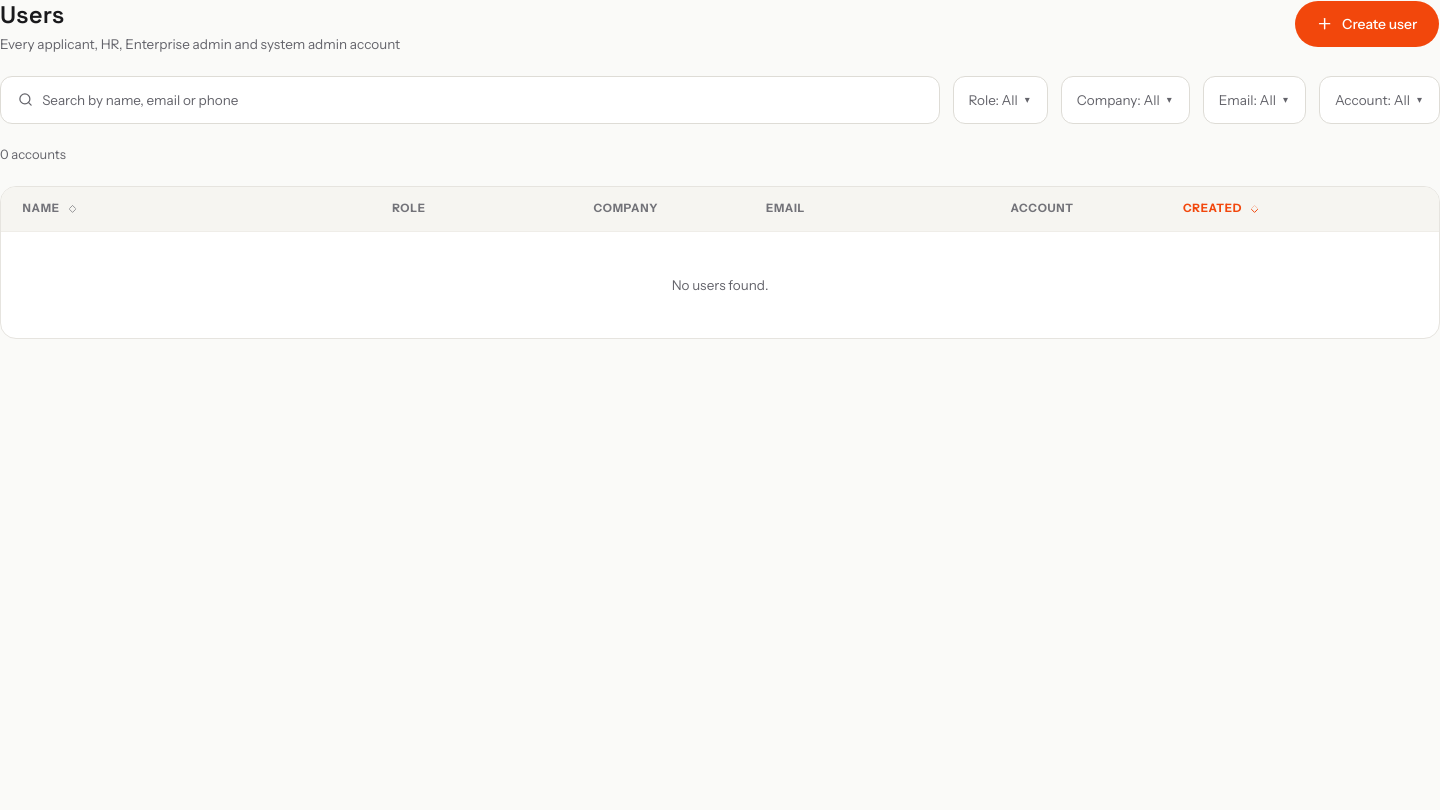
Scenario: UsersPage › opens the create dialog with role cards, username, email and mobile fields
The image size is (1440, 810).
Step 1. Click the button "Create user" → (1367, 24), box [1294, 0, 1439, 48]
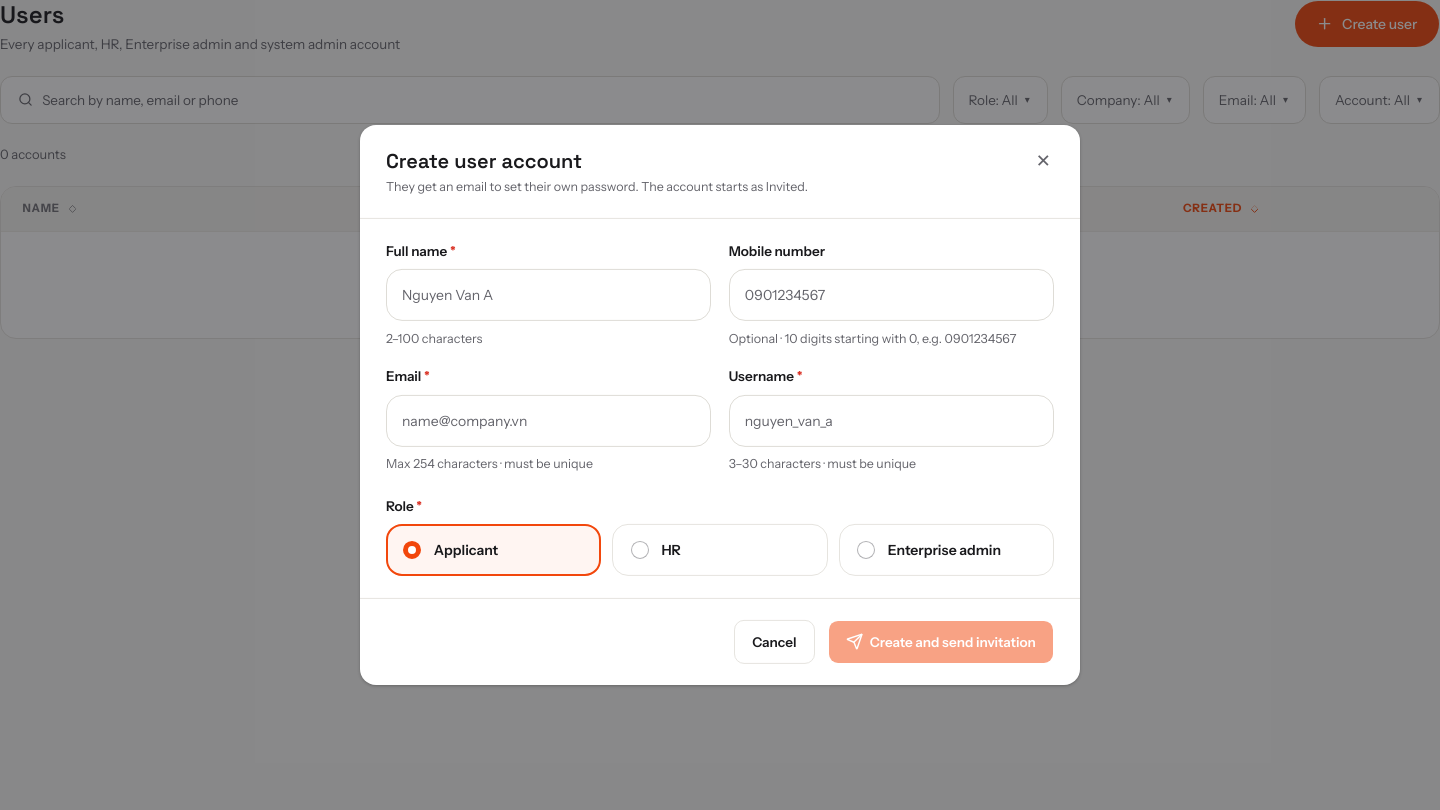
Expected: the dialog "Create user account" is shown, [360, 125, 1080, 685]
Expected: the field labelled "Username *" is shown, [729, 395, 1054, 446]
Expected: the field labelled "Mobile number" is shown, [729, 269, 1054, 321]
